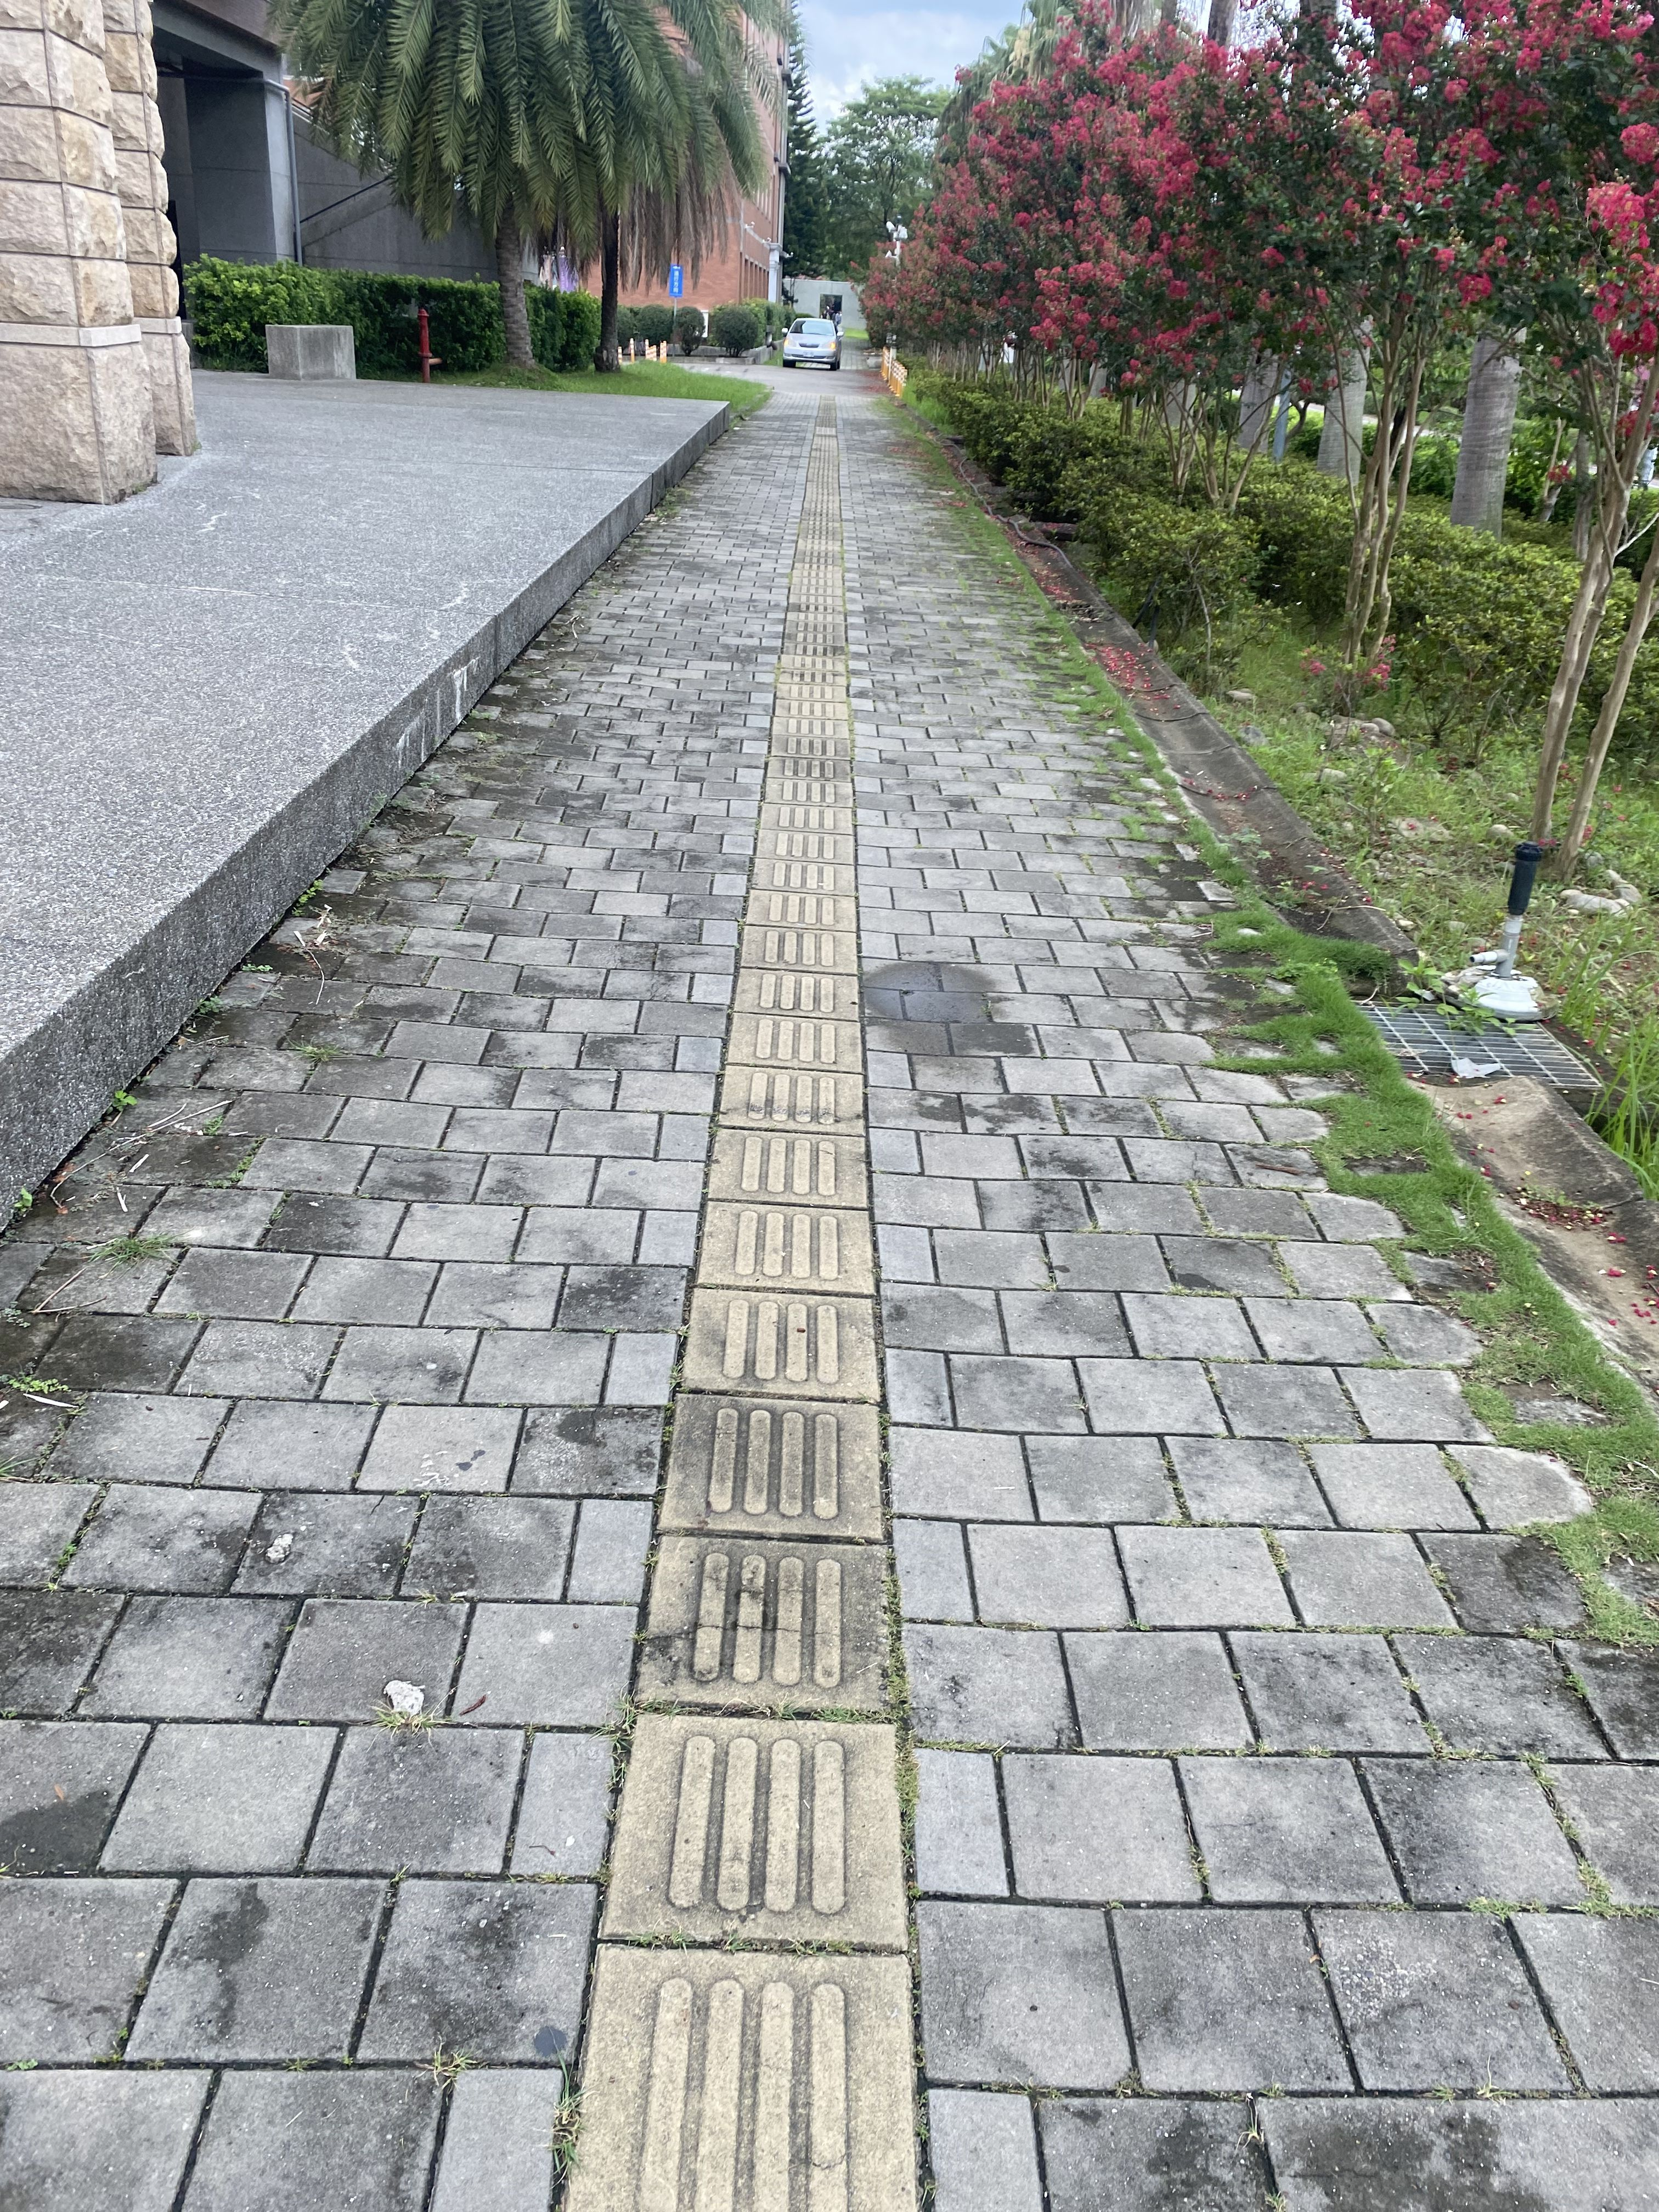0: (10, 583, 1659, 2205)
sidewalk: (542, 381, 1317, 1444)
